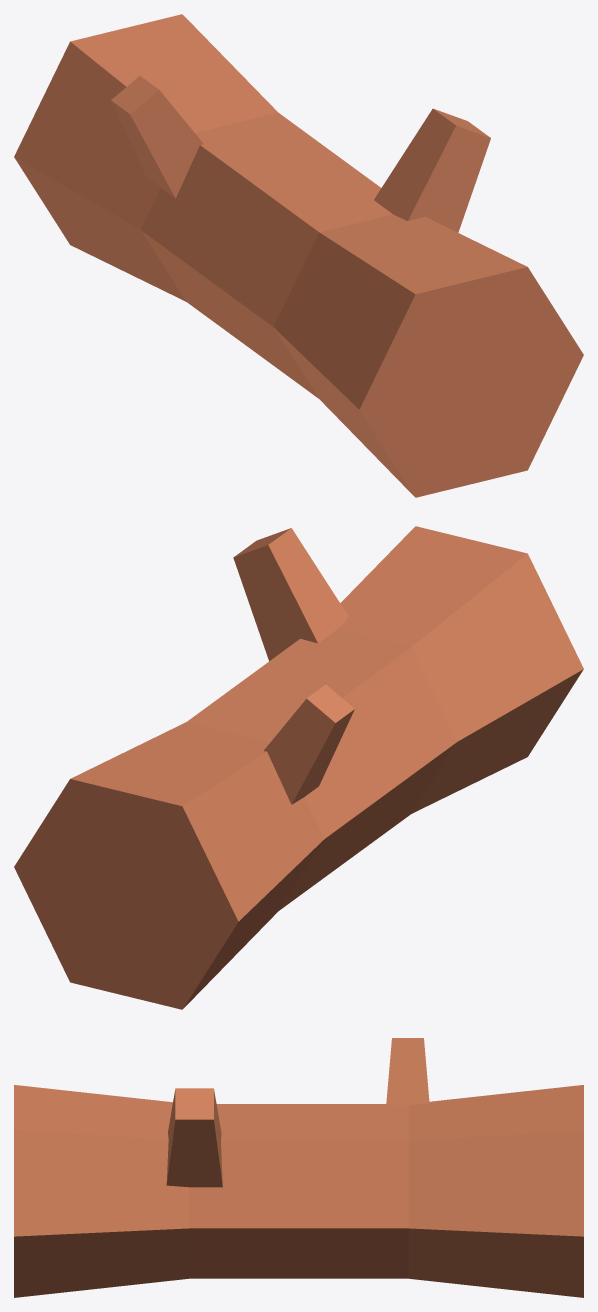
File: tree-log-small.obj
3 views of the same model, one above another, from view 1: azimuth 30°, elevation 25°; view 2: azimuth 150°, elevation 25°; view 3: azimuth 270°, elevation 25° (orthographic). The views are drawn at different scales.
Bounding box in the file's own units: 0.2495 × 0.2771 × 0.65.
